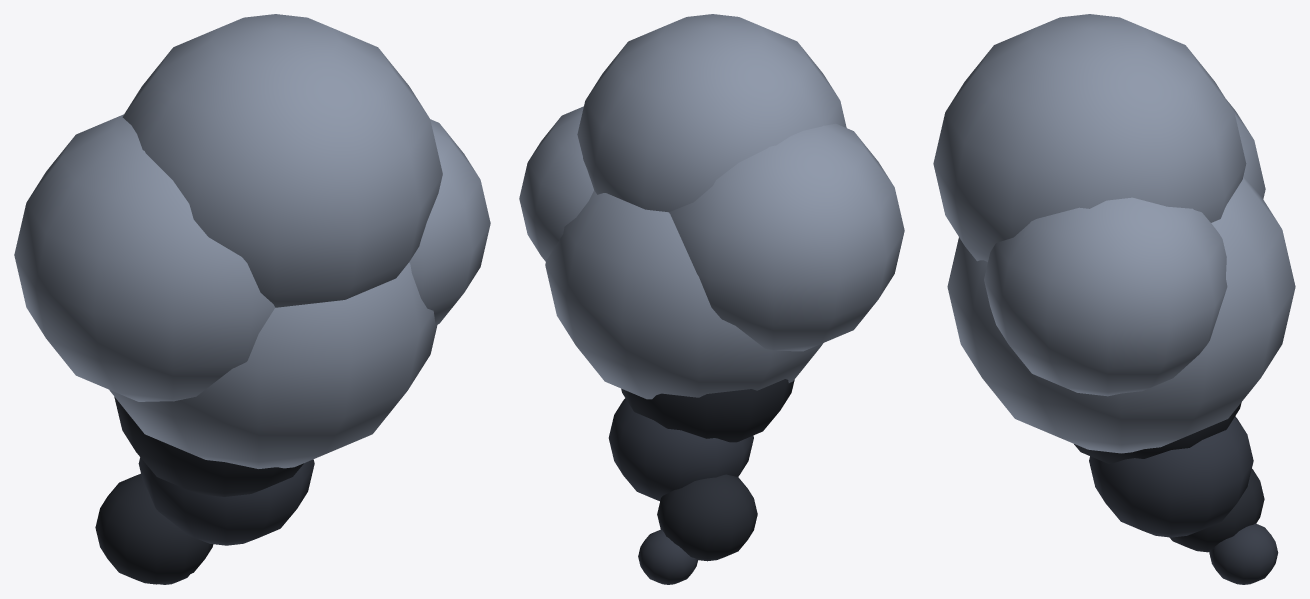
File: brume.glb
3 views of the same model, side by side, from view 1: azimuth 30°, elevation 25°; view 2: azimuth 150°, elevation 25°; view 3: azimuth 270°, elevation 25° (orthographic). The views are drawn at different scales.
Parts seen in each view (by area): view 1: brume; view 2: brume; view 3: brume.
Part boxes in pixels (x1,y1,x2,y2): brume: (14,14,490,584); brume: (519,14,904,584); brume: (933,14,1295,584).
Bounding box in the file's own units: 0.6813 × 0.9098 × 0.5281.
